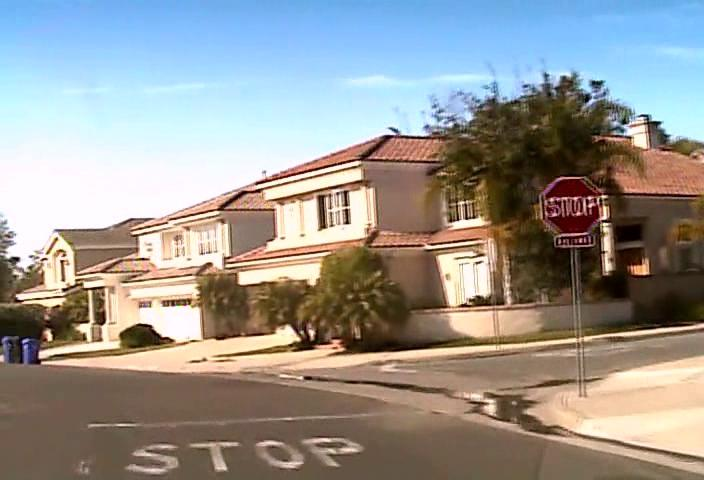stop: (538, 176, 602, 235)
